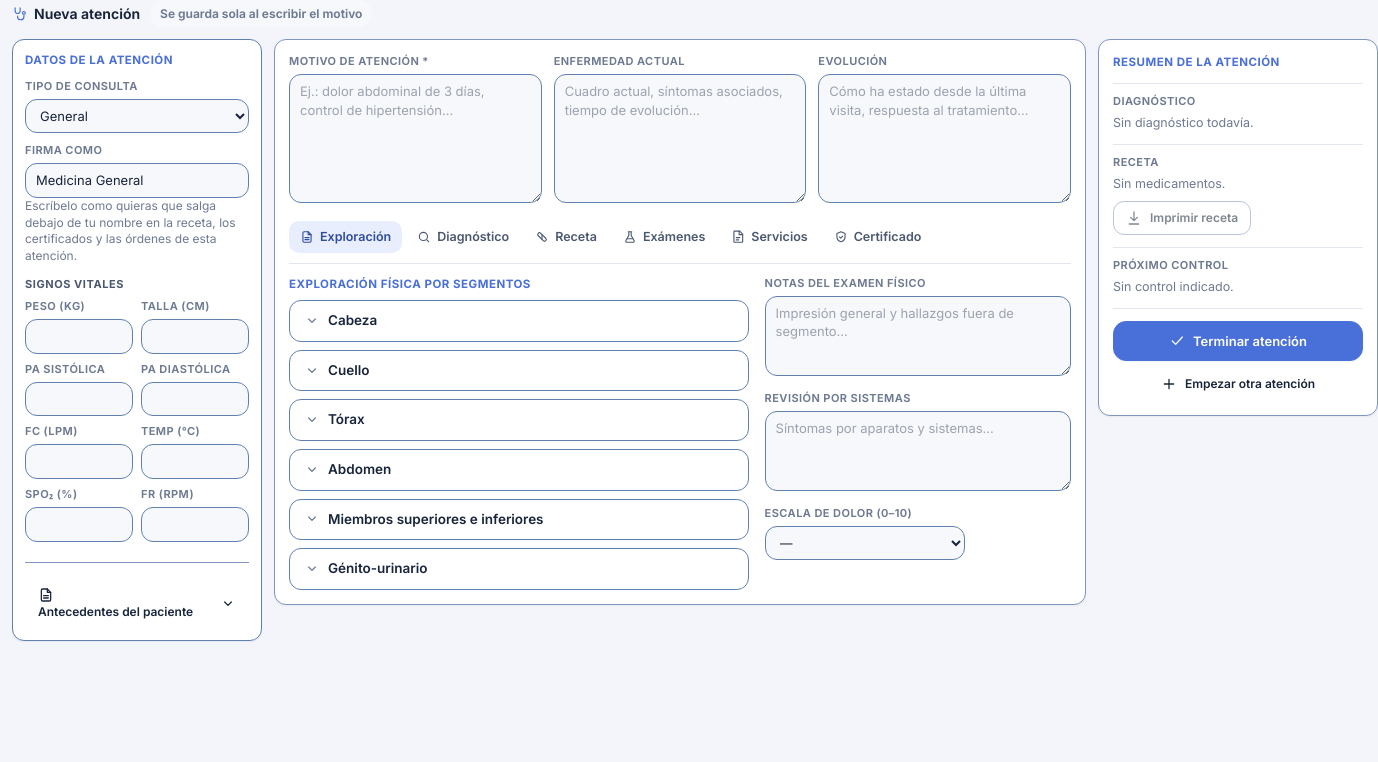
Encounter capability inventory › opens certificate issuance inside the encounter without leaving typed work
Type "Control" into the text box with placeholder "Ej.: dolor abdominal de 3 días, control de hipertensión…" at (415, 139), box left=289, top=74, right=542, bottom=203
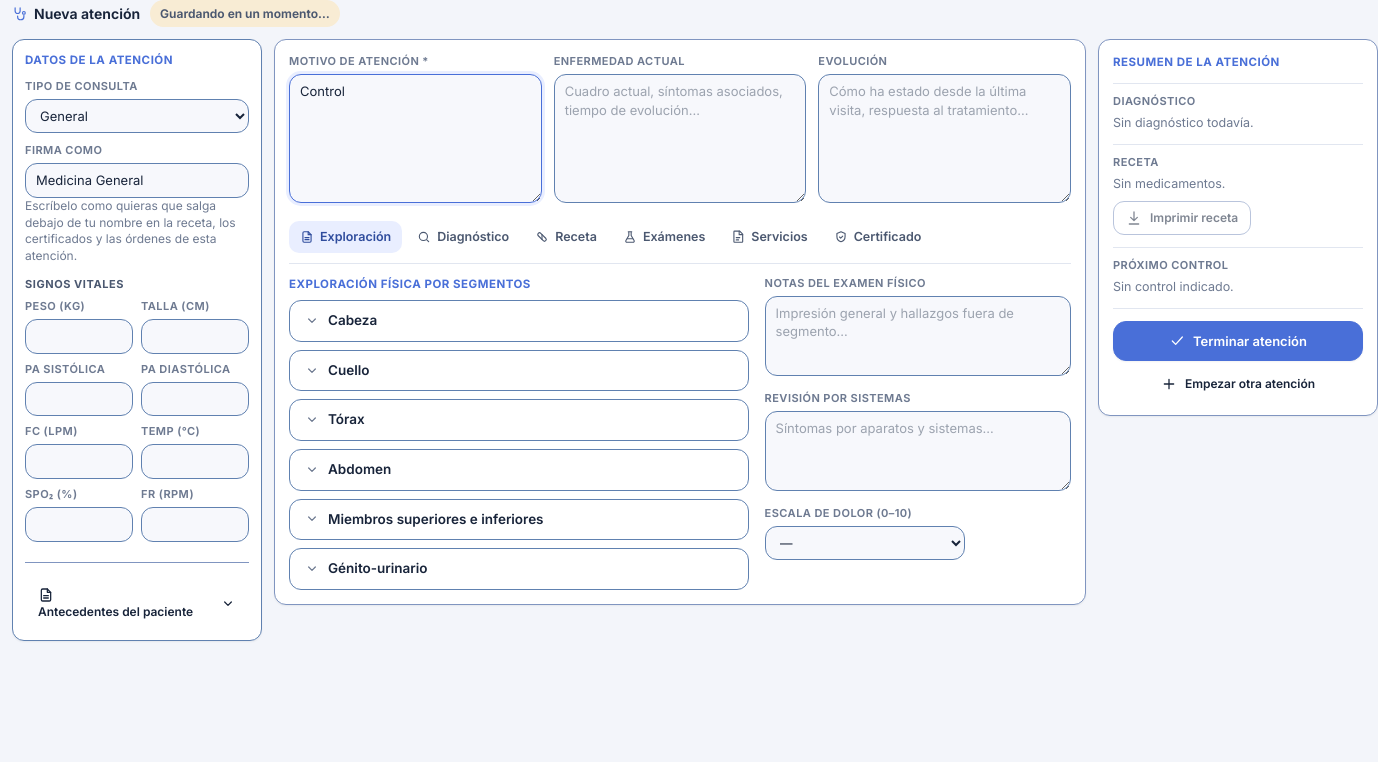
Click the tab "Certificado" at (878, 237), box left=823, top=221, right=932, bottom=253
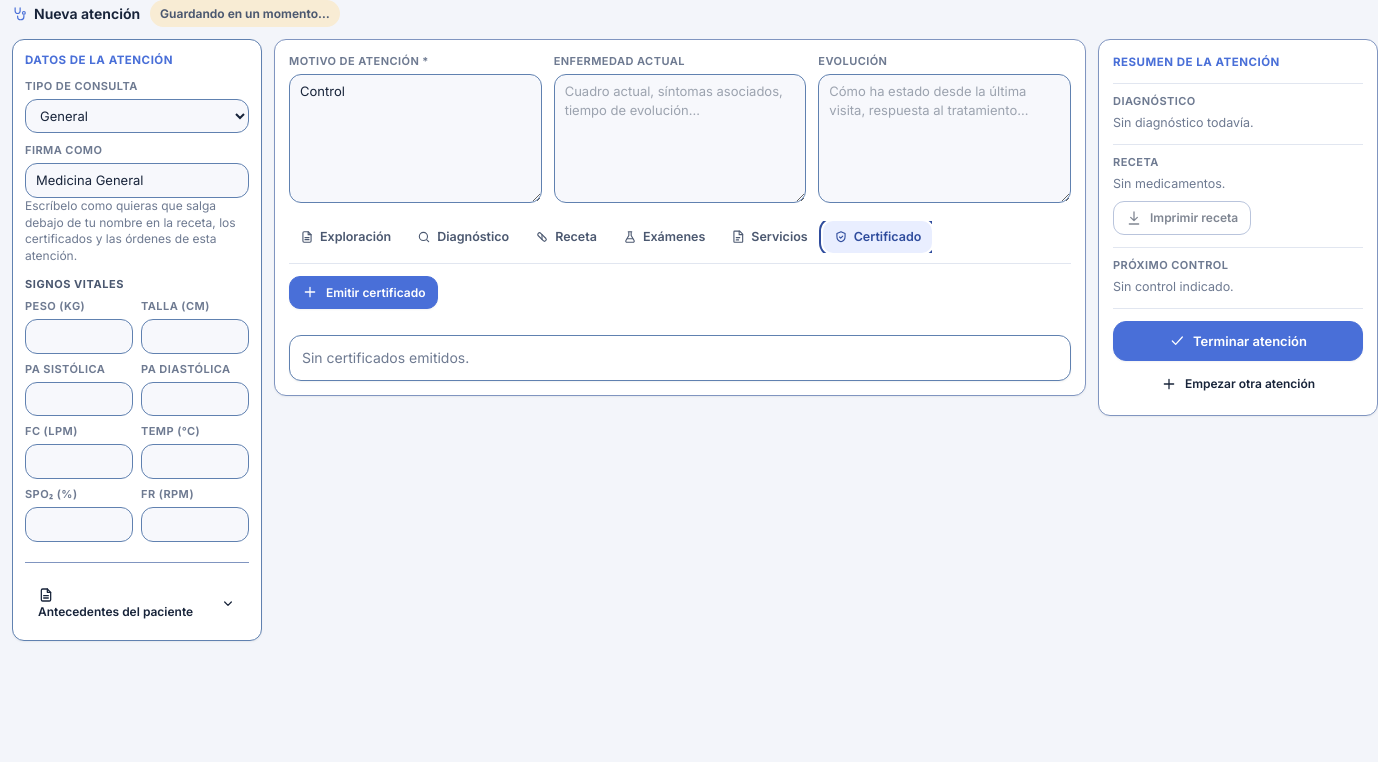
Click the button "Emitir certificado" at (364, 292), box left=289, top=276, right=438, bottom=309
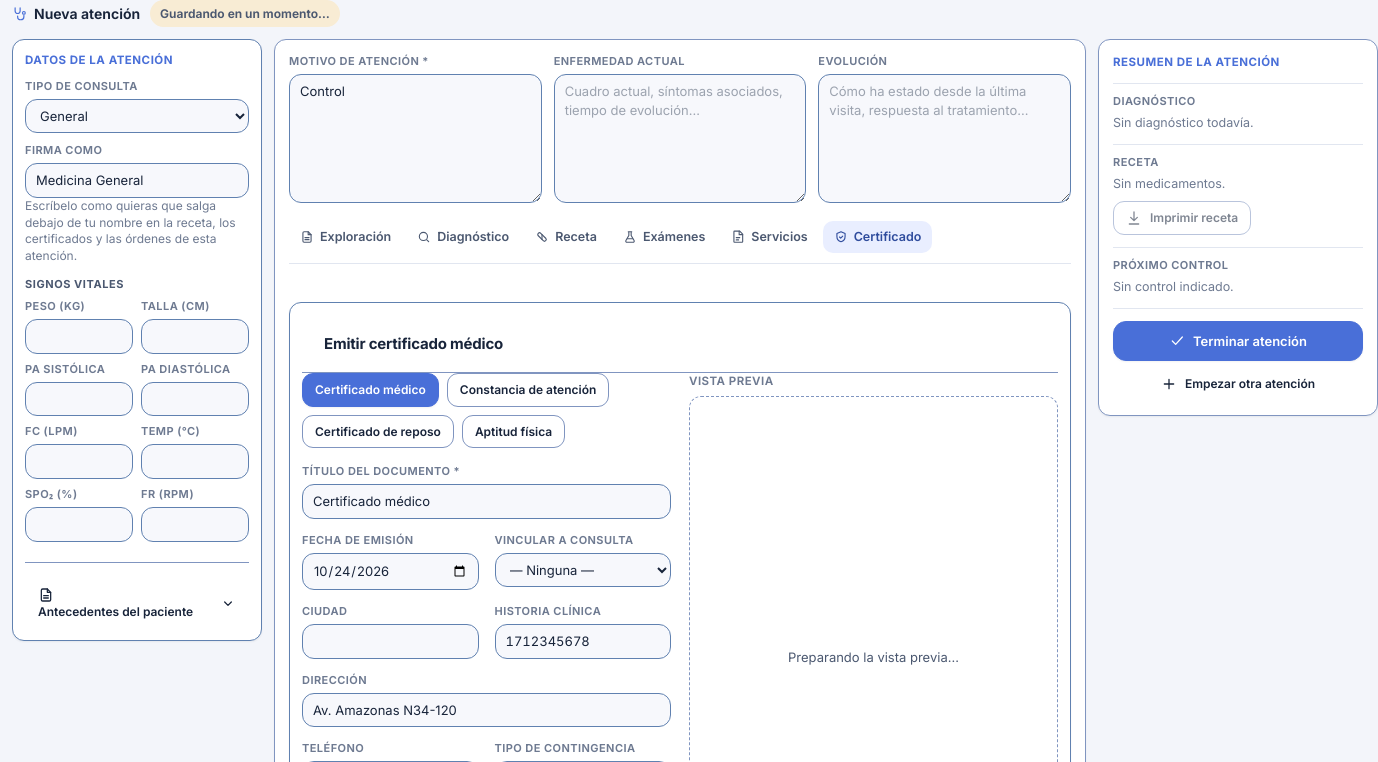
Expected: the heading "Emitir certificado médico" is shown, left=324, top=333, right=503, bottom=354
